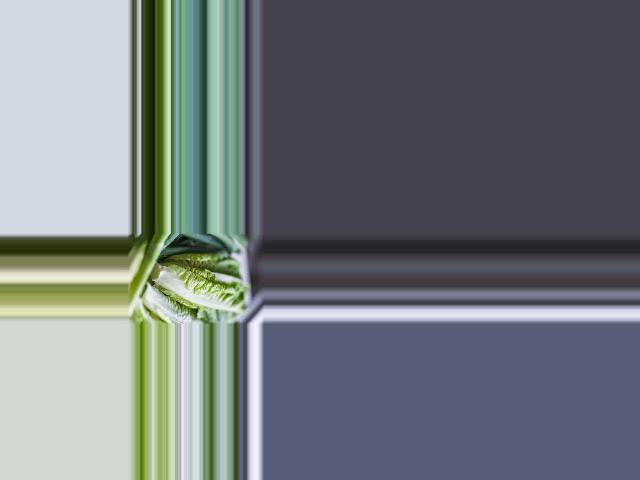lettuce: (150, 251, 248, 313)
